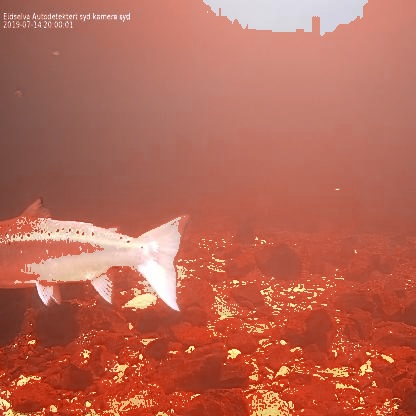salmon: (0, 194, 193, 315)
